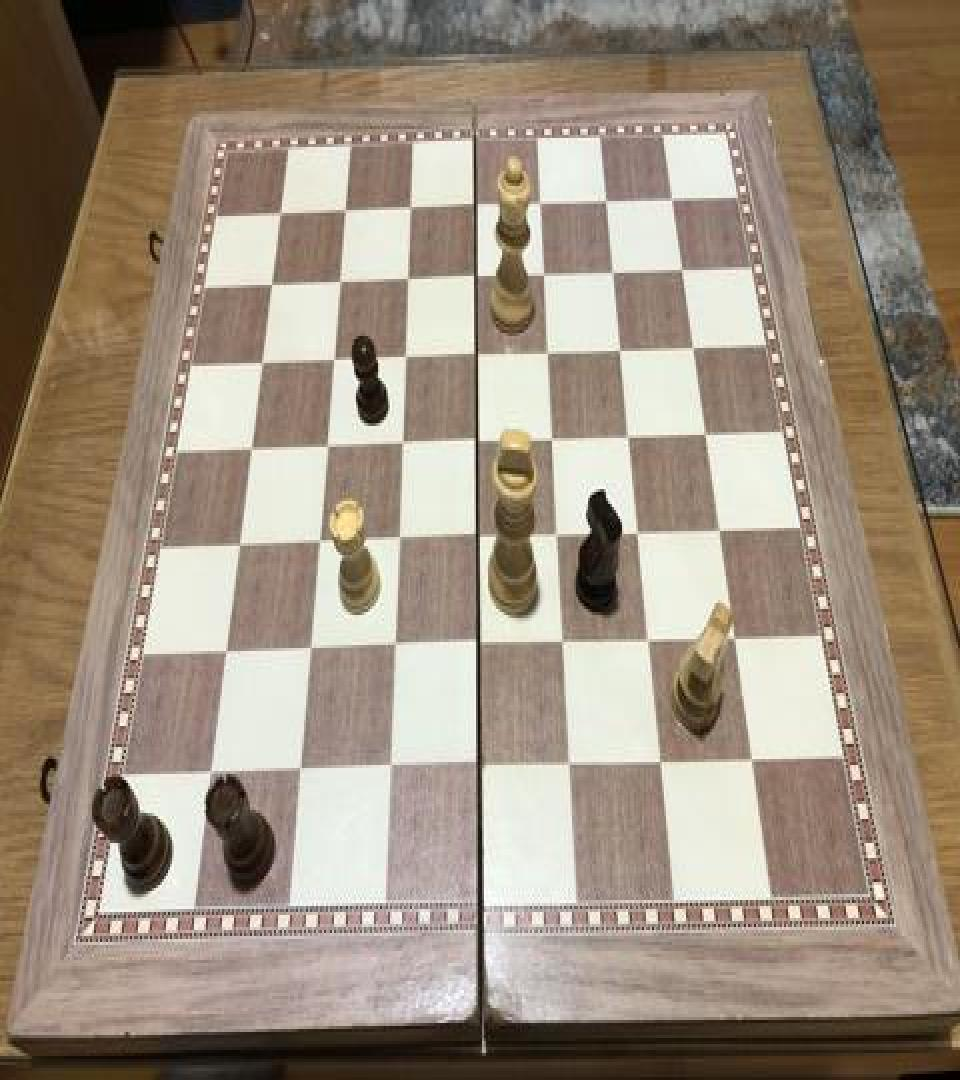xcorner: (387, 520, 411, 557), (552, 622, 576, 659), (467, 625, 491, 662), (298, 631, 322, 668), (742, 739, 766, 776), (650, 742, 674, 779), (660, 178, 684, 214), (594, 182, 618, 218), (529, 184, 553, 220), (399, 190, 423, 226), (334, 194, 358, 230), (270, 196, 294, 232), (670, 249, 694, 285), (601, 252, 625, 288), (533, 255, 557, 291), (464, 258, 488, 294), (396, 261, 420, 297), (328, 264, 352, 300), (261, 267, 285, 303), (682, 327, 706, 363), (609, 330, 633, 366), (537, 333, 561, 369), (465, 336, 489, 372), (393, 339, 417, 375), (322, 342, 346, 378), (251, 345, 275, 381), (618, 416, 642, 452), (541, 418, 565, 454), (466, 422, 490, 458), (390, 424, 414, 460), (315, 428, 339, 464), (708, 510, 732, 546), (627, 513, 651, 549), (547, 516, 571, 552), (466, 518, 490, 554), (307, 524, 331, 560), (228, 526, 252, 562), (724, 618, 748, 654), (638, 621, 662, 657), (383, 628, 407, 664), (215, 634, 239, 670), (559, 746, 583, 782), (468, 747, 492, 783), (378, 750, 402, 786), (288, 753, 312, 789), (199, 756, 223, 792), (464, 188, 488, 223), (694, 413, 718, 448), (240, 431, 264, 466)
